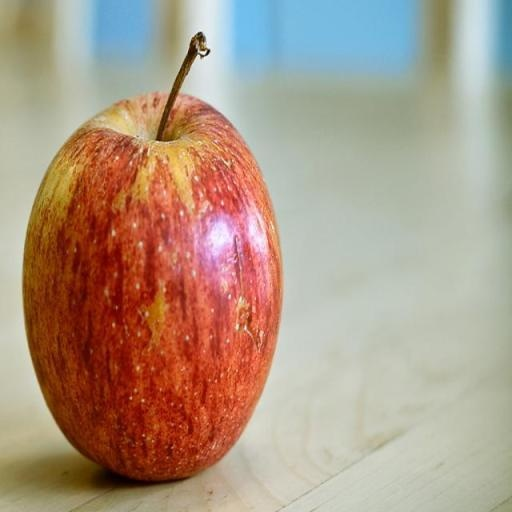fruit: (6, 146, 50, 512)
